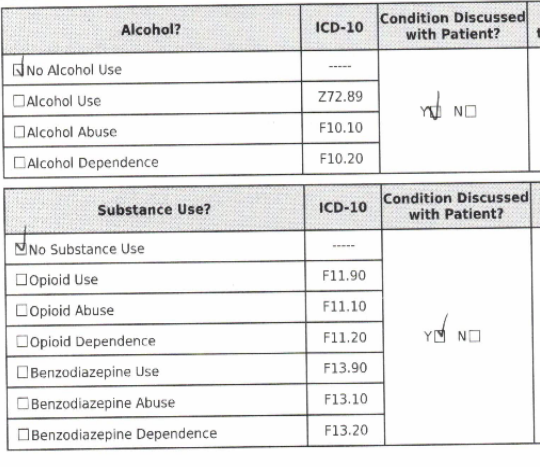checked: (435, 307, 456, 347), (10, 231, 30, 261), (428, 92, 446, 124), (9, 56, 27, 83)
